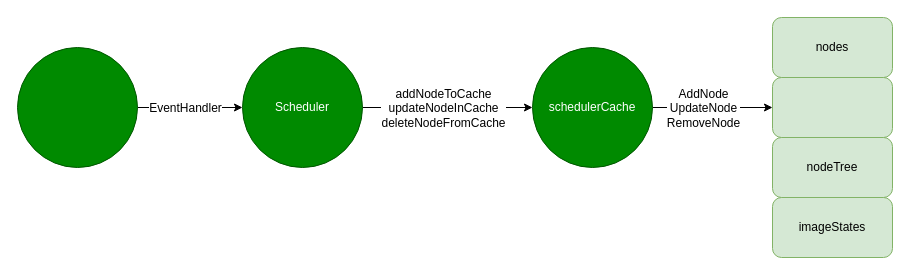
Image size: 910x275. Some labels were removed from this diagram. The shapes that lost their labels are listed below. From the top down, each one's box as (x1, y1, x2, y2) in pixels, then its label:
(16, 46, 138, 168): Node Add/Update/Delete Event
(772, 76, 892, 138): headNode
